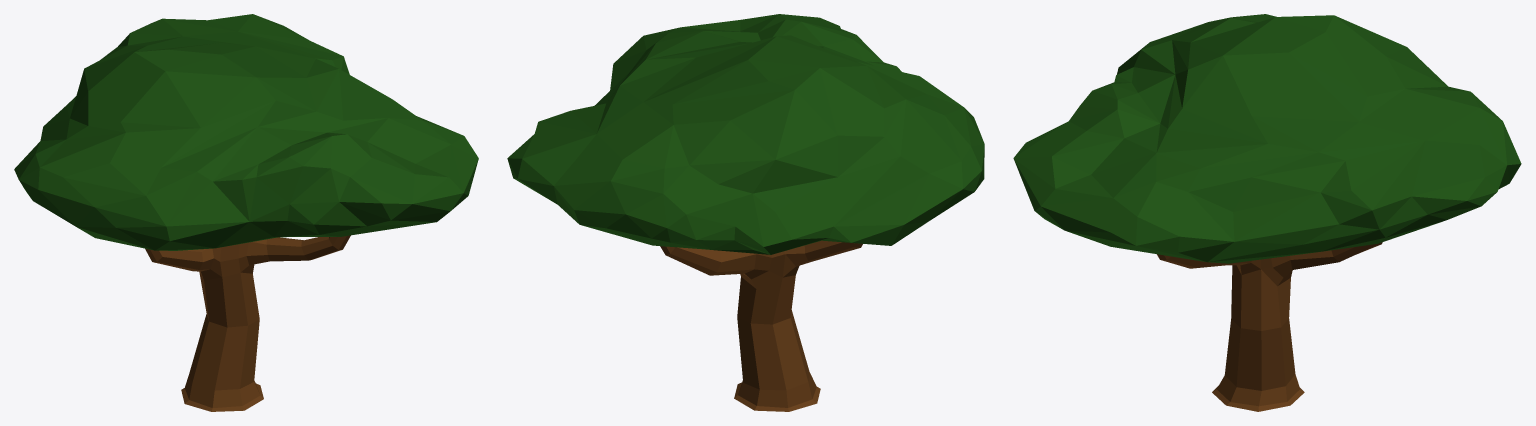
The model's file is 2020-09-08 WorldObjects.fbx_Tree3.fbx.
The picture shows the model from 3 angles, left to right: view 1: azimuth 30°, elevation 25°; view 2: azimuth 150°, elevation 25°; view 3: azimuth 270°, elevation 25°; orthographic projection. The views are drawn at different scales.
Parts seen in each view (by area): view 1: Tree 3; view 2: Tree 3; view 3: Tree 3.
Boxes of the visible parts, box(x1,y1,x2,y2) form: Tree 3: box(14, 14, 478, 411); Tree 3: box(507, 14, 984, 411); Tree 3: box(1013, 14, 1521, 411).
Size of the model in its own units: 15 by 12.2 by 16.06.
